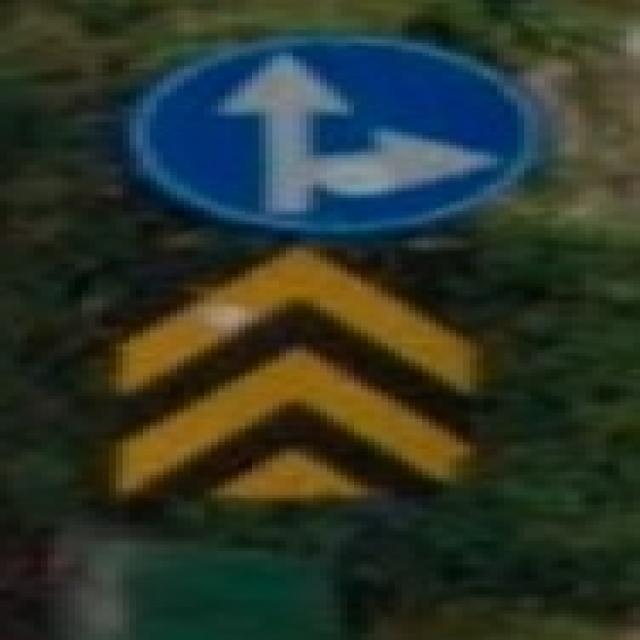Straight or Right: (130, 34, 539, 235)
